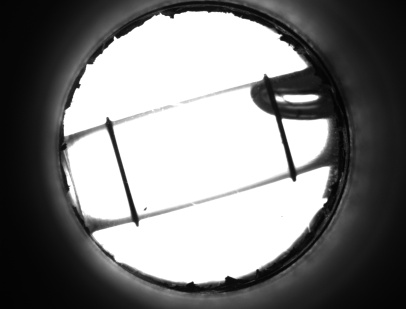line: (106, 141, 139, 201), (274, 125, 299, 161)
